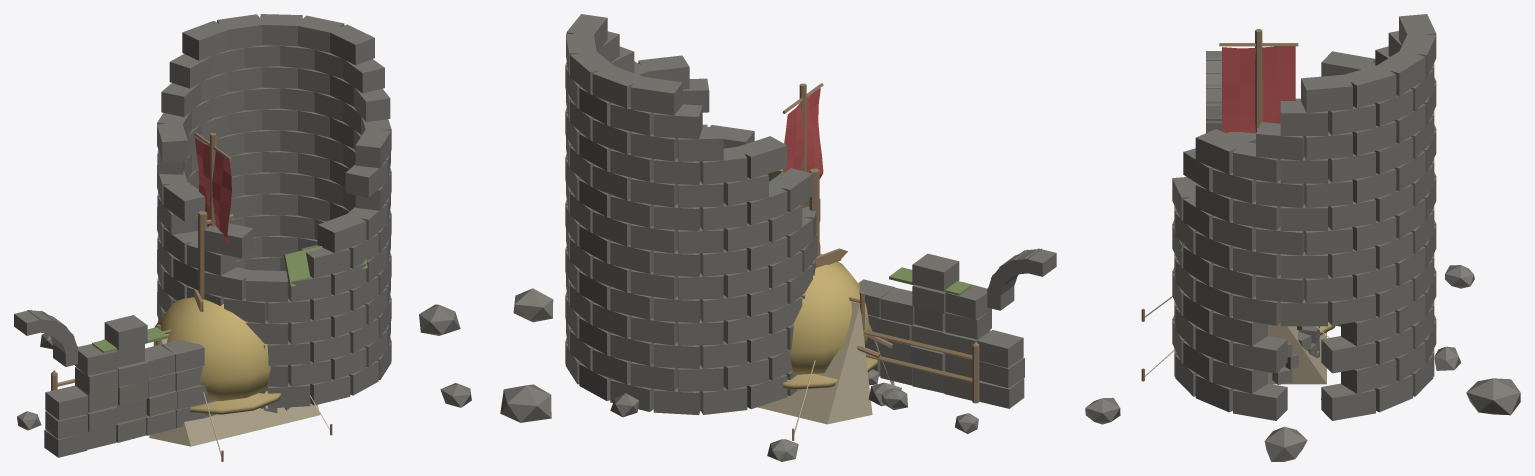
Rendered from camp.glb.
3 views of the same model, side by side, from view 1: azimuth 30°, elevation 25°; view 2: azimuth 150°, elevation 25°; view 3: azimuth 270°, elevation 25° (orthographic). The views are drawn at different scales.
Visible parts, largest first — view 1: BrokenTower, Ruin, Haystack, Tent, Banner, LanternPost; view 2: BrokenTower, Ruin, Haystack, Tent, Banner, Fence; view 3: BrokenTower, Banner, Tent, Ruin, Well.
Part boxes in pixels (x1,y1,x2,y2): BrokenTower: (40, 14, 471, 408); Ruin: (14, 310, 216, 457); Haystack: (153, 297, 280, 414); Tent: (149, 324, 332, 461); Banner: (194, 132, 232, 245); LanternPost: (198, 211, 233, 299); BrokenTower: (500, 14, 820, 461); Ruin: (858, 248, 1056, 433); Haystack: (783, 253, 877, 389); Tent: (757, 291, 894, 440); Banner: (782, 83, 823, 207); Fence: (863, 330, 979, 403); BrokenTower: (1085, 14, 1520, 461); Banner: (1219, 29, 1298, 133); Tent: (1141, 296, 1329, 384); Ruin: (1206, 51, 1221, 132); Well: (1268, 326, 1319, 384).
Bounding box in the file's own units: 11.45 × 7.45 × 8.29.
